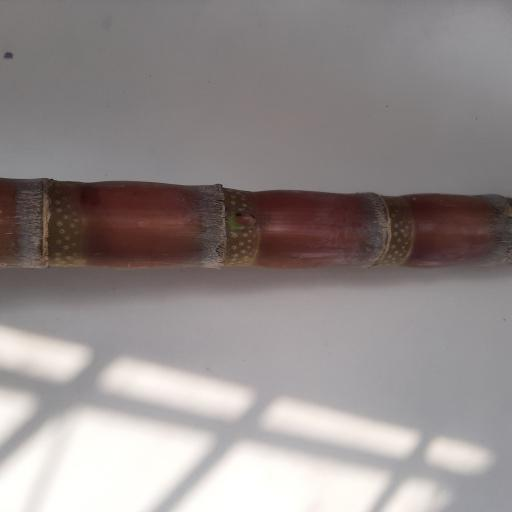Bud: (230, 210, 257, 230)
